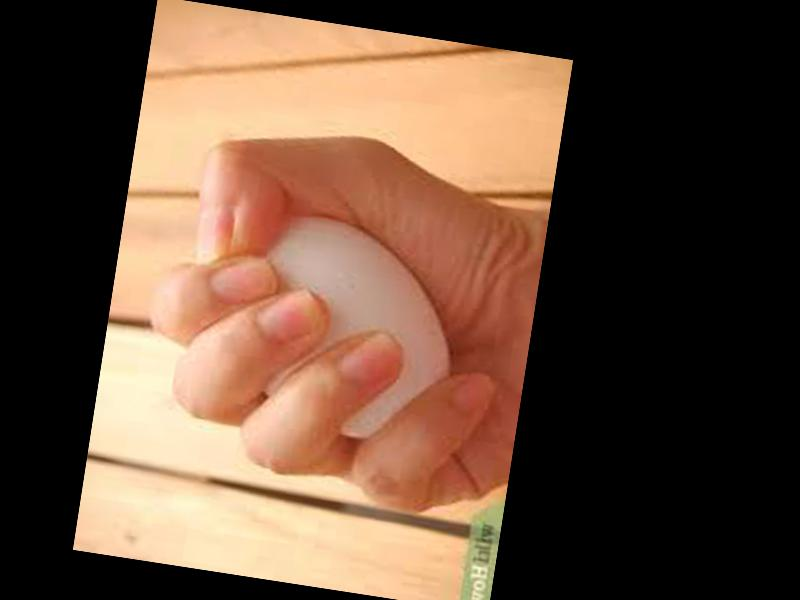Eggs: (241, 208, 469, 451)
